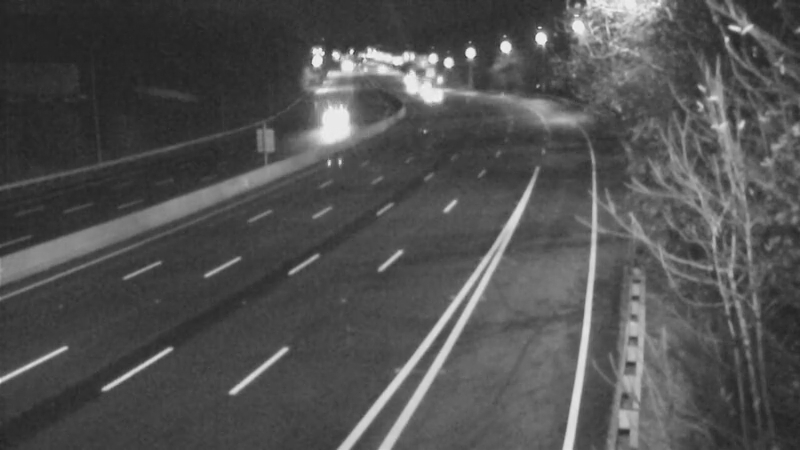vehicle: (385, 60, 435, 110), (400, 60, 450, 110), (406, 70, 456, 120), (320, 93, 370, 143)
